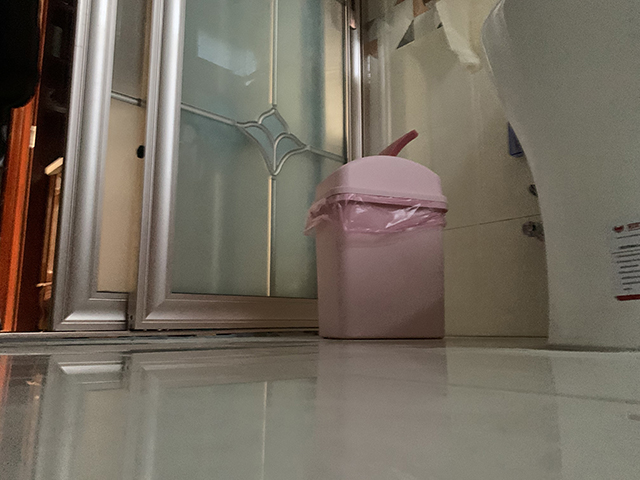closestool: (477, 1, 640, 350)
trashcan: (311, 129, 449, 340)
